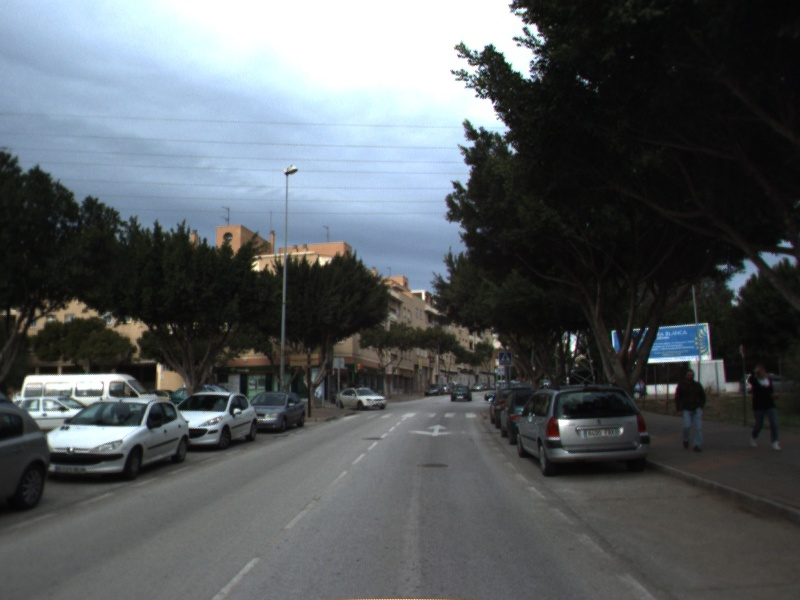STRAIGHT_LEFT_RIGHT: (405, 422, 467, 439)
